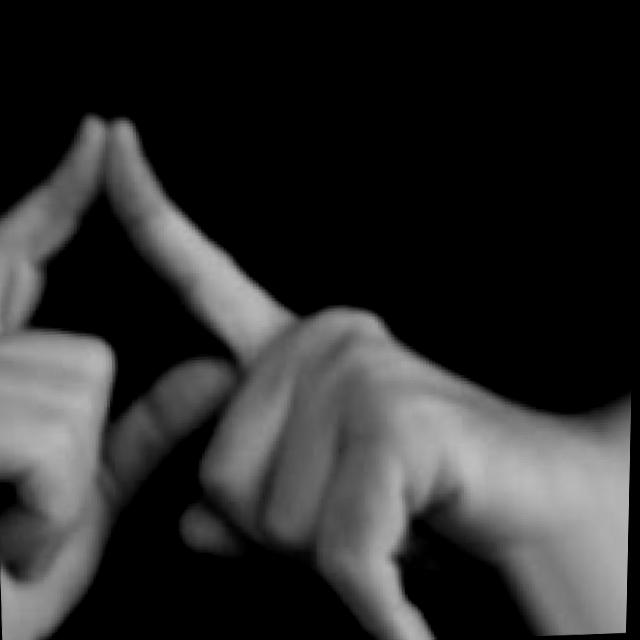D: (0, 88, 505, 640)
